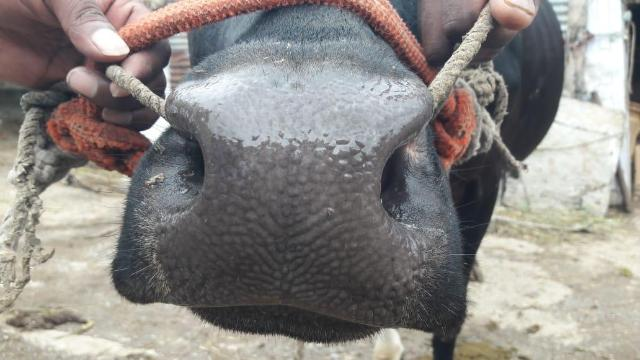Muzzle: (180, 88, 408, 312)
